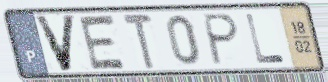0: (165, 13, 205, 68)
E: (77, 13, 129, 72)
L: (243, 13, 288, 66)
P: (202, 12, 242, 68)
T: (120, 12, 158, 71)
V: (32, 13, 79, 74)
